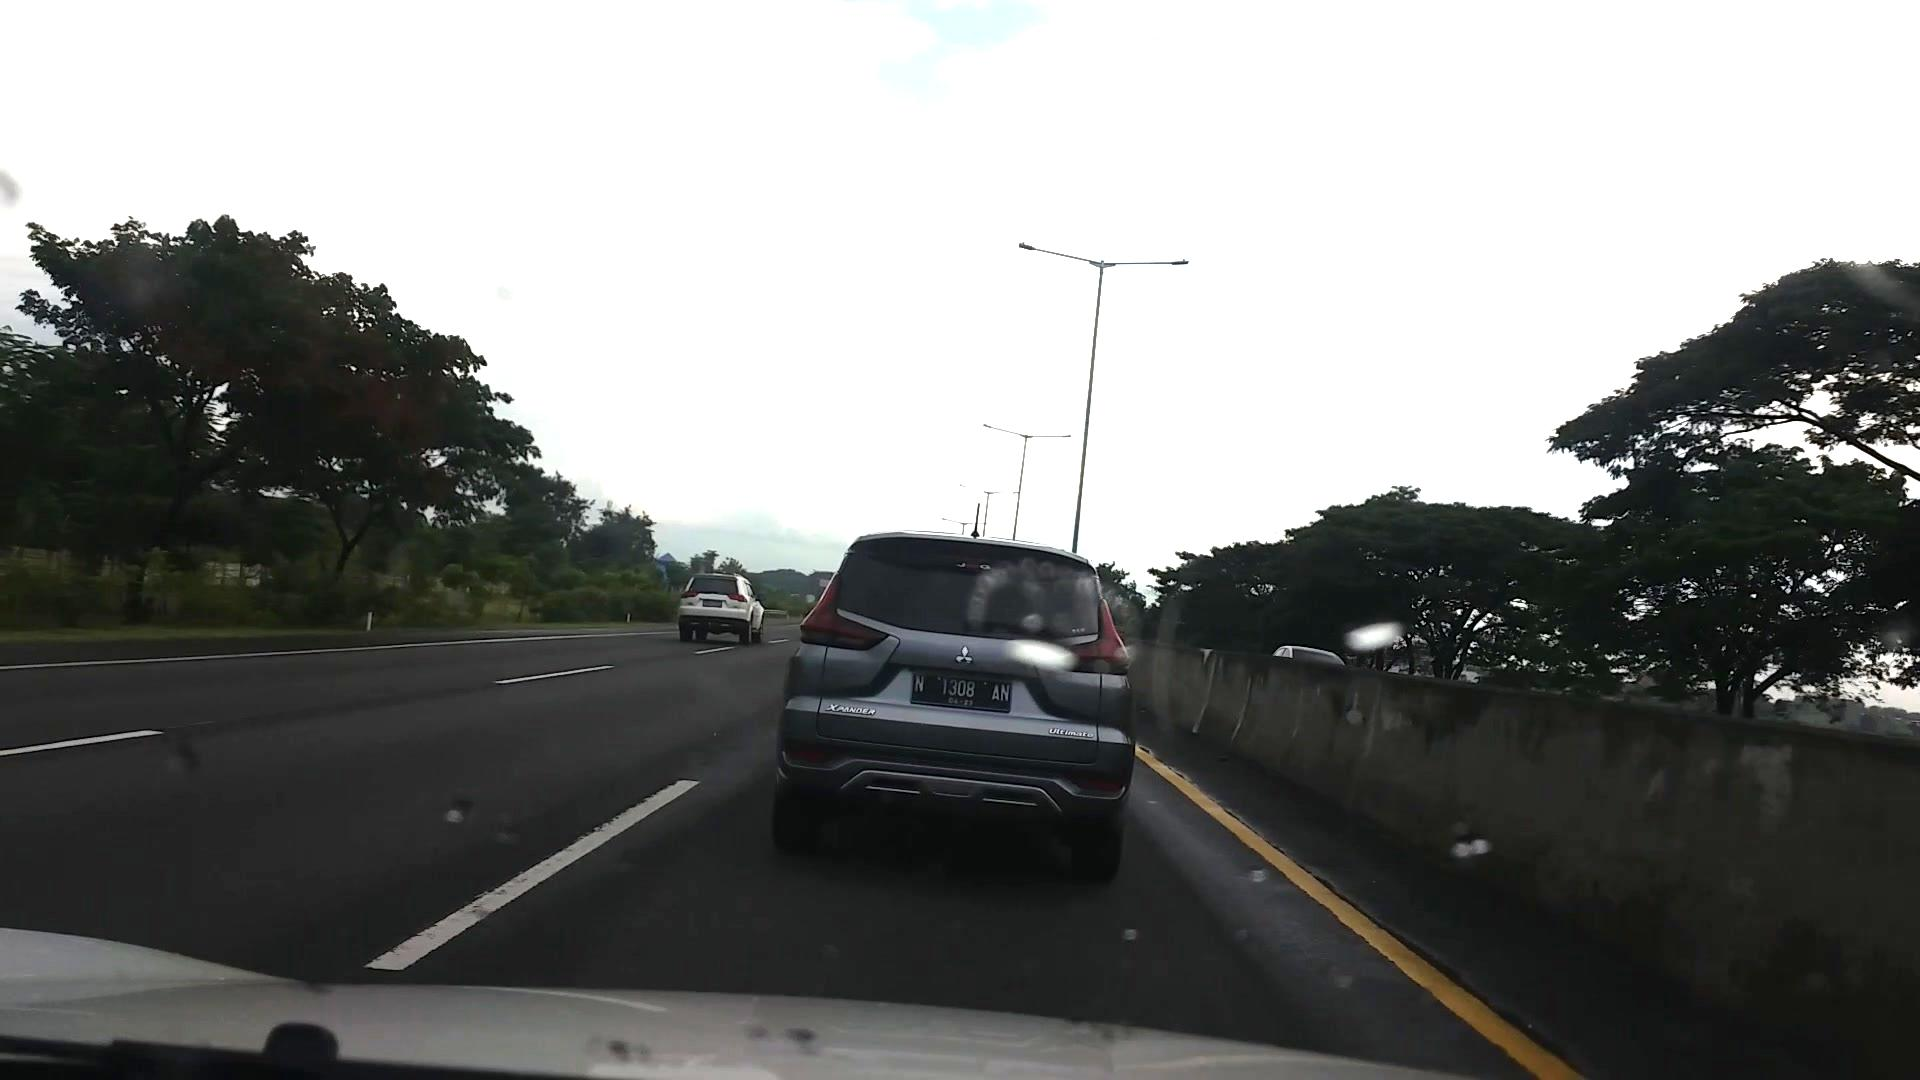plate_positive: (911, 674, 1009, 708)
